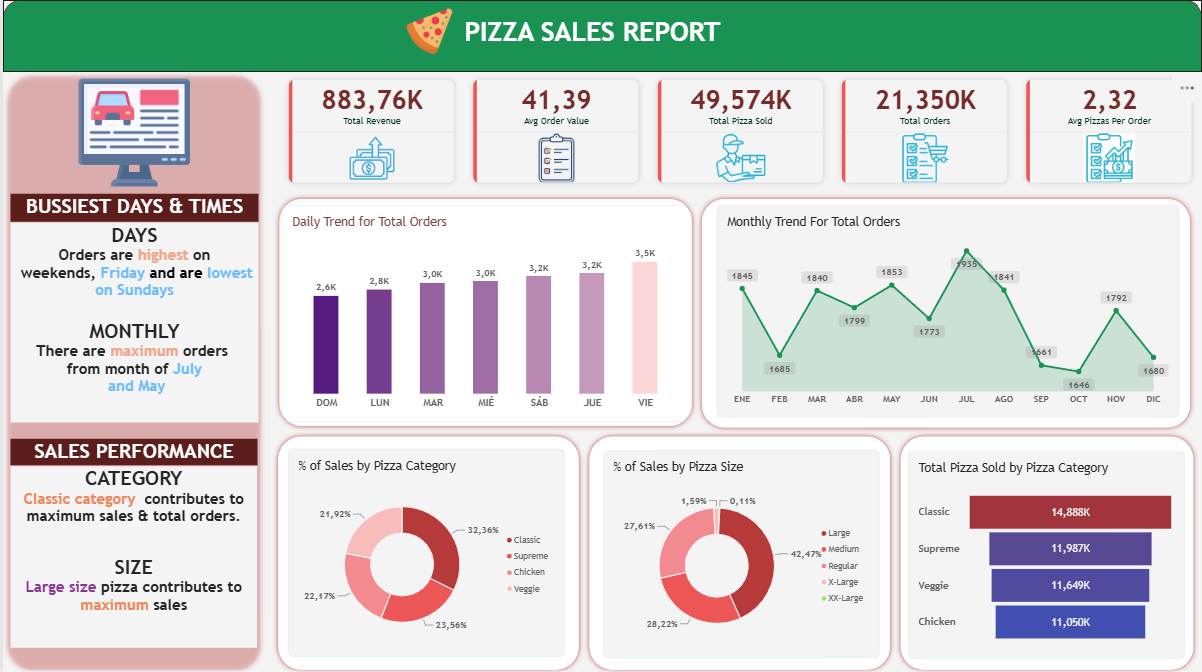

The dashboard page shown, as its layout file describes it:
{"tool":"powerbi","page":{"name":"Page 1","canvas":[1920,1080],"ordinal":0},"visuals":[{"type":"cardVisual","fields":{"Data":["pizza_sales.Total Revenue","pizza_sales.Avg Order Value","pizza_sales.Total Pizza Sold","pizza_sales.Total Orders","pizza_sales.Avg Pizzas Per Order"]},"box":[445,115,1468.3,188.3],"z":0},{"type":"shape","box":[0,0,1920,115],"z":1000},{"type":"textbox","box":[738,26,478,74],"z":2000},{"type":"image","box":[637.5,12.5,88,76],"z":4000},{"type":"shape","box":[433.3,310,676.7,380],"z":5000},{"type":"columnChart","title":"Daily Trend for Total Orders","fields":{"Category":["pizza_sales.Order Day"],"Y":["pizza_sales.Total Orders"]},"box":[445,328.3,655,346.7],"z":6000},{"type":"shape","box":[1110,310,797.5,382.5],"z":7000},{"type":"areaChart","title":"Monthly Trend For Total Orders","fields":{"Category":["pizza_sales.Order Month"],"Y":["pizza_sales.Total Orders"]},"box":[1142.5,327.5,740,340],"z":8000},{"type":"shape","box":[432.5,690,497.5,390],"z":9000},{"type":"shape","box":[930,690,497.5,390],"z":10000},{"type":"shape","box":[1427.5,690,485,390],"z":11000},{"type":"donutChart","title":"% of Sales by Pizza Category","fields":{"Category":["pizza_sales.pizza_category"],"Y":["pizza_sales.Total Revenue"]},"box":[455,717.5,442.5,332.5],"z":12000},{"type":"donutChart","title":"% of Sales by Pizza Size","fields":{"Category":["pizza_sales.pizza_size"],"Y":["pizza_sales.Total Revenue"]},"box":[960,720,442.5,332.5],"z":13000},{"type":"shape","box":[0,113.8,420,966.7],"z":14000},{"type":"funnel","title":"Total Pizza Sold by Pizza Category","fields":{"Category":["pizza_sales.pizza_category"],"Y":["pizza_sales.Total Pizza Sold"]},"box":[1448.3,721.7,443.3,331.7],"z":15000},{"type":"textbox","box":[11.7,310,396.7,45],"z":16000},{"type":"textbox","box":[11.7,355,396.7,320],"z":17000},{"type":"textbox","box":[12.5,702.5,395,42.5],"z":18003},{"type":"textbox","box":[12.9,745.7,394.3,290],"z":18005},{"type":"image","box":[106,120,208,184],"z":18006}]}

Visuals, with their boxes in screenshot pixels (x1, y1, x2, y2), scaled from the page's 1920x1080 canvas onto the 1202x672 screenshot:
cardVisual - pizza_sales.Total Revenue x pizza_sales.Avg Order Value: 279:72:1198:189
shape: 0:0:1201:72
textbox: 462:16:761:62
image: 399:8:454:55
shape: 271:193:695:429
"Daily Trend for Total Orders" columnChart: 279:204:689:420
shape: 695:193:1194:431
"Monthly Trend For Total Orders" areaChart: 715:204:1179:415
shape: 271:429:582:671
shape: 582:429:894:671
shape: 894:429:1197:671
"% of Sales by Pizza Category" donutChart: 285:446:562:653
"% of Sales by Pizza Size" donutChart: 601:448:878:655
shape: 0:71:263:671
"Total Pizza Sold by Pizza Category" funnel: 907:449:1184:655
textbox: 7:193:256:221
textbox: 7:221:256:420
textbox: 8:437:255:464
textbox: 8:464:255:644
image: 66:75:197:189
